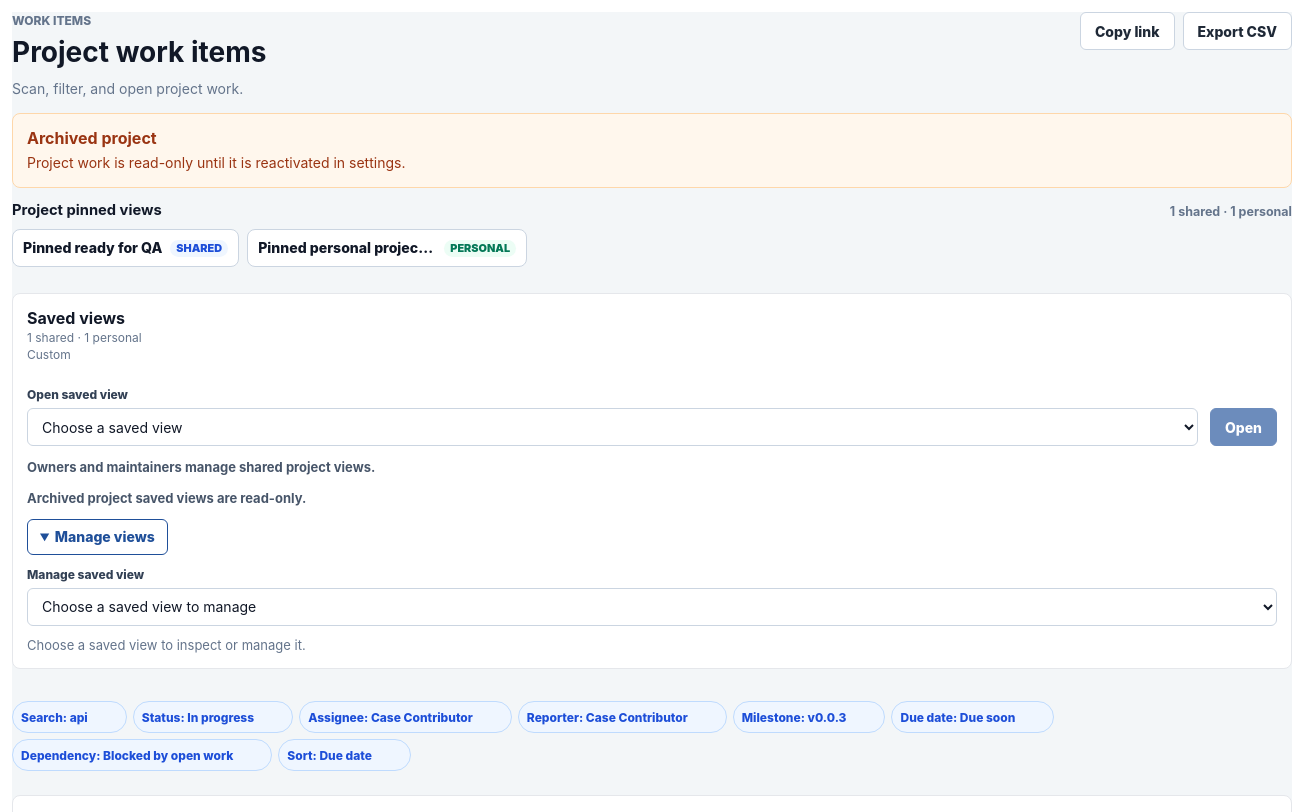
Scenario: WorkItemListPageComponent › renders archived project saved views as open-only and blocks mutations
Select "Pinned ready for QA - 2 applied filters" in the dropdown labelled "Manage saved view": [652, 607] box [27, 588, 1277, 626]
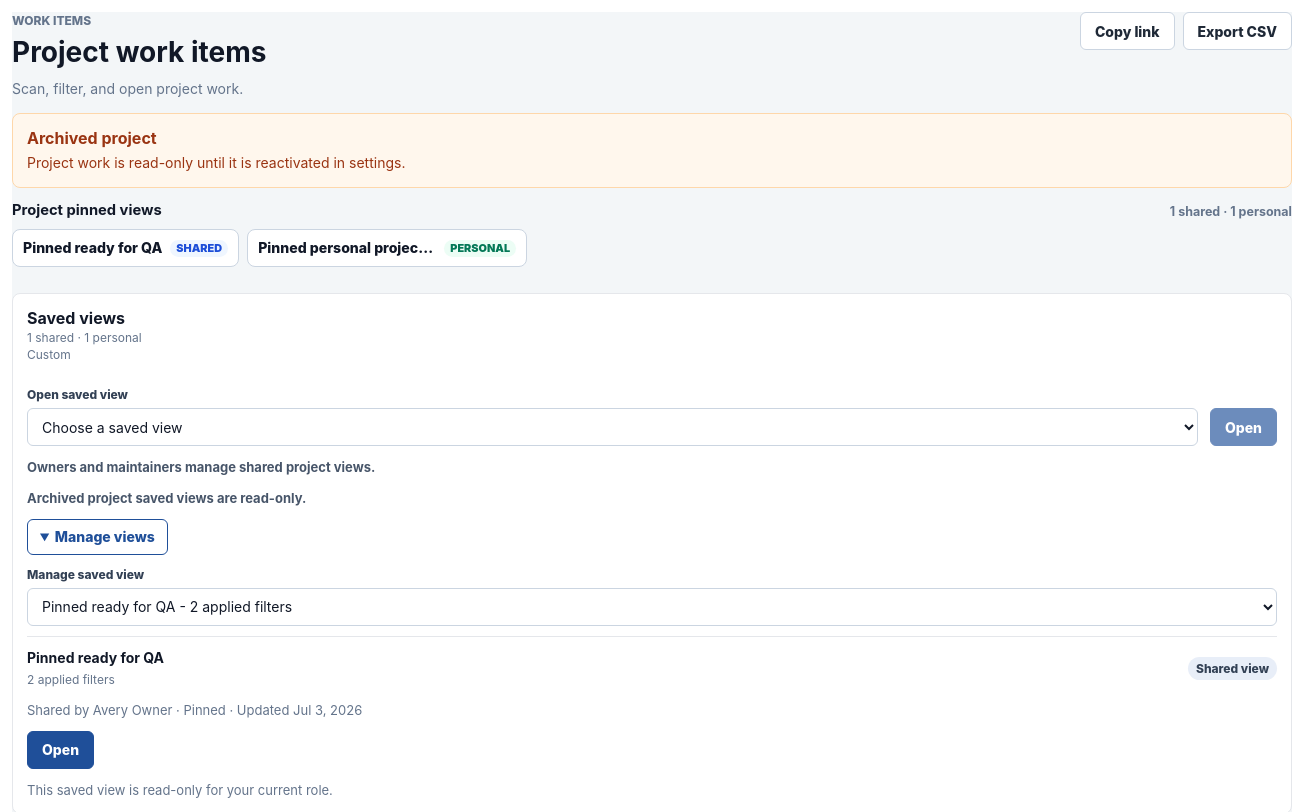
Check: the text "This saved view is read-only for your current role." is shown, box [27, 782, 333, 798]
